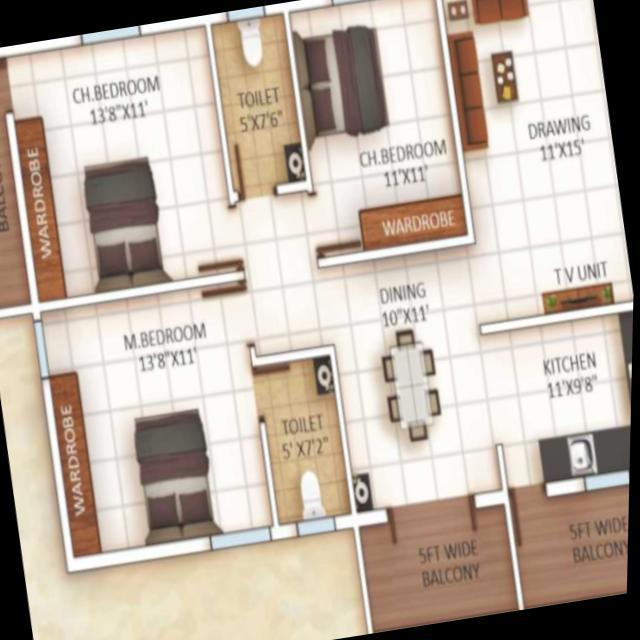Balcony-Sitout: (358, 490, 525, 633), (506, 473, 632, 610), (0, 46, 38, 315)
Bedroom: (5, 18, 244, 309), (282, 0, 470, 268)
Bedroom with Toilet: (39, 275, 280, 575)
Dining: (378, 323, 448, 446)
Kitchen: (480, 305, 635, 503)
Living: (437, 0, 635, 335)
Toilet: (205, 4, 309, 206), (253, 347, 360, 542)
